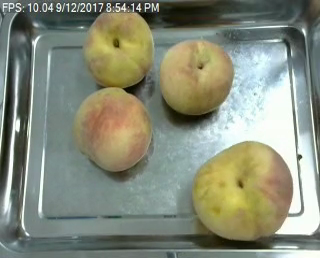Peach: (193, 140, 293, 240), (73, 86, 151, 171), (83, 6, 153, 88), (159, 38, 233, 115)
